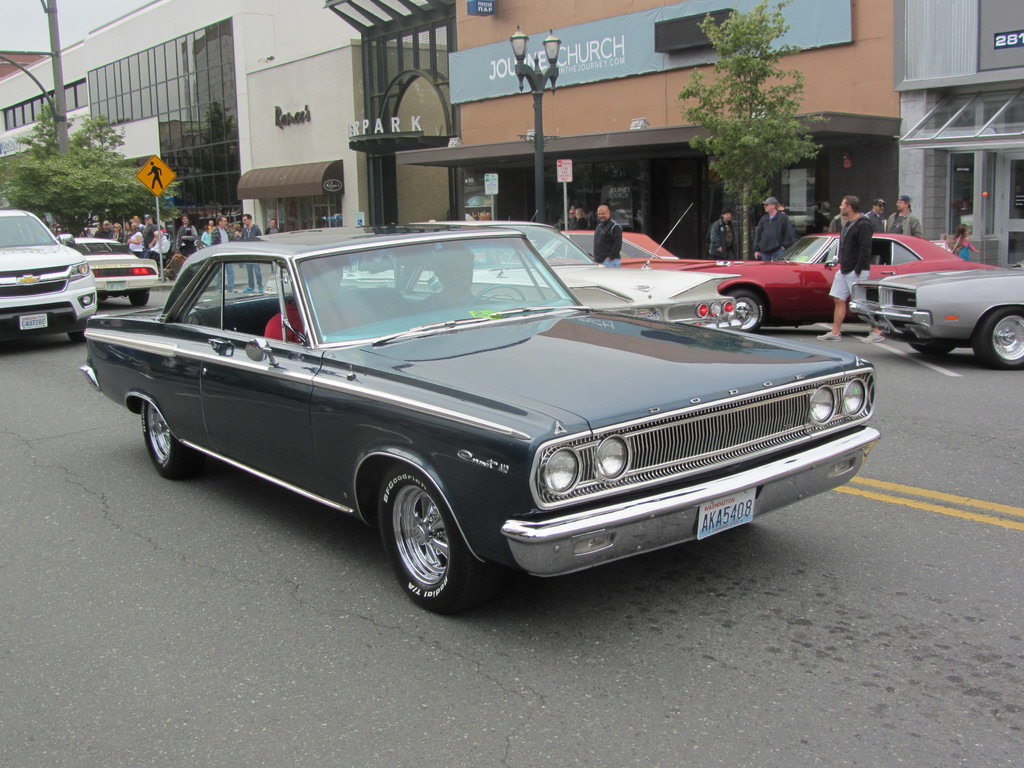mobil: (115, 228, 888, 647), (859, 229, 1024, 406)
